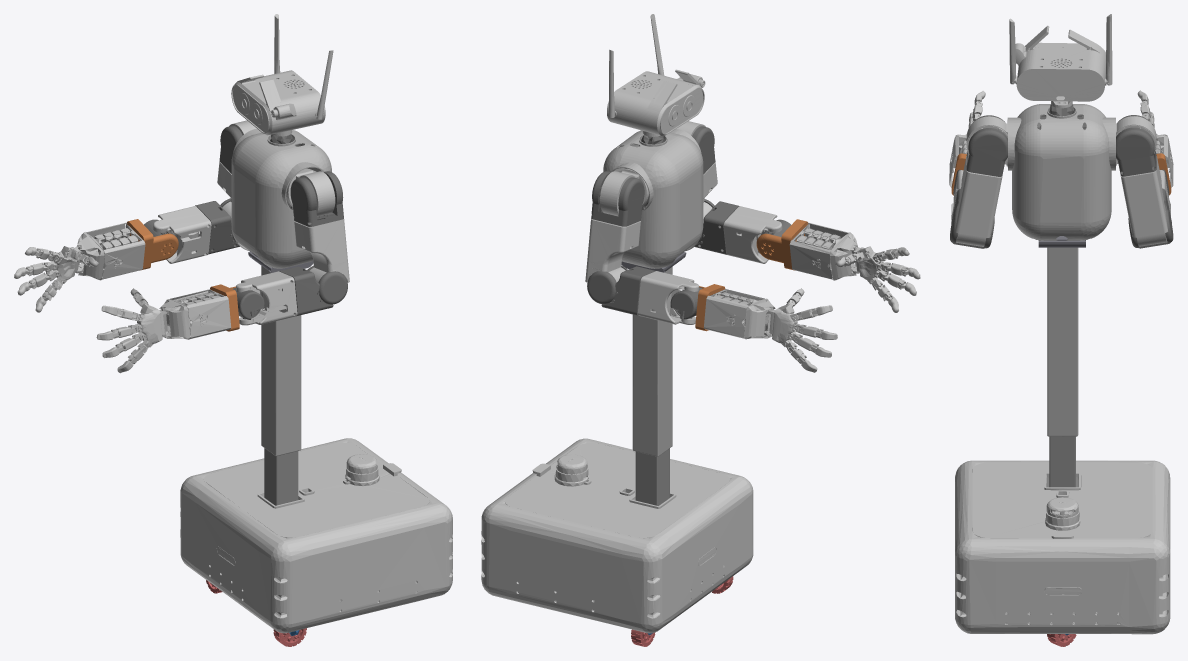
Rendered from rig.glb.
3 renders of one model, left to right at view 1: azimuth 30°, elevation 25°; view 2: azimuth 150°, elevation 25°; view 3: azimuth 270°, elevation 25°, orthographic. The views are drawn at different scales.
Visible parts, largest first — view 1: mabel_chassis__v0, torso__v14, lift_top__v12, head__v18, l_shoulder_3__v22, l_forearm__v24, r_forearm__v32, l_elbow__v23, lift_mid__v11, l_shoulder_2__v21, left_tower__v36, right_tower__v66 (+7 smaller); view 2: mabel_chassis__v0, torso__v14, lift_top__v12, head__v18, r_shoulder_3__v30, l_forearm__v24, r_forearm__v32, r_elbow__v31, lift_mid__v11, r_shoulder_2__v29, right_tower__v67, left_tower__v35 (+7 smaller); view 3: mabel_chassis__v0, torso__v14, head__v18, lift_top__v12, r_shoulder_3__v30, l_shoulder_3__v22, l_shoulder_2__v21, r_shoulder_2__v29, lift_mid__v11, l_shoulder_1__v20, r_shoulder_1__v28, r_elbow__v31 (+2 smaller).
Boxes of the visible parts, x1,y1,x2,y2 form: mabel_chassis__v0: (180, 438, 452, 633); torso__v14: (231, 128, 331, 268); lift_top__v12: (261, 266, 301, 456); head__v18: (231, 14, 333, 135); l_shoulder_3__v22: (294, 219, 349, 282); l_forearm__v24: (236, 271, 297, 325); r_forearm__v32: (152, 206, 211, 263); l_elbow__v23: (279, 266, 347, 315); lift_mid__v11: (264, 448, 298, 505); l_shoulder_2__v21: (290, 171, 343, 226); left_tower__v36: (169, 289, 231, 338); right_tower__v66: (76, 224, 142, 280); mabel_chassis__v0: (481, 438, 753, 633); torso__v14: (603, 129, 703, 268); lift_top__v12: (632, 266, 672, 456); head__v18: (607, 14, 705, 135); r_shoulder_3__v30: (585, 218, 640, 282); l_forearm__v24: (723, 206, 782, 263); r_forearm__v32: (637, 271, 699, 324); r_elbow__v31: (587, 265, 655, 315); lift_mid__v11: (635, 448, 669, 505); r_shoulder_2__v29: (591, 171, 644, 226); right_tower__v67: (704, 289, 764, 338); left_tower__v35: (790, 224, 858, 280); mabel_chassis__v0: (955, 460, 1170, 634); torso__v14: (1007, 104, 1115, 240); head__v18: (1009, 14, 1112, 101); lift_top__v12: (1047, 247, 1078, 436); r_shoulder_3__v30: (1120, 156, 1167, 246); l_shoulder_3__v22: (955, 156, 1002, 246); l_shoulder_2__v21: (966, 115, 1007, 176); r_shoulder_2__v29: (1116, 115, 1156, 176); lift_mid__v11: (1049, 436, 1075, 487); l_shoulder_1__v20: (966, 116, 1007, 166); r_shoulder_1__v28: (1116, 116, 1156, 165); r_elbow__v31: (1128, 188, 1173, 248).
Size of the model in its own units: 0.9484 by 1.48 by 0.5069.
